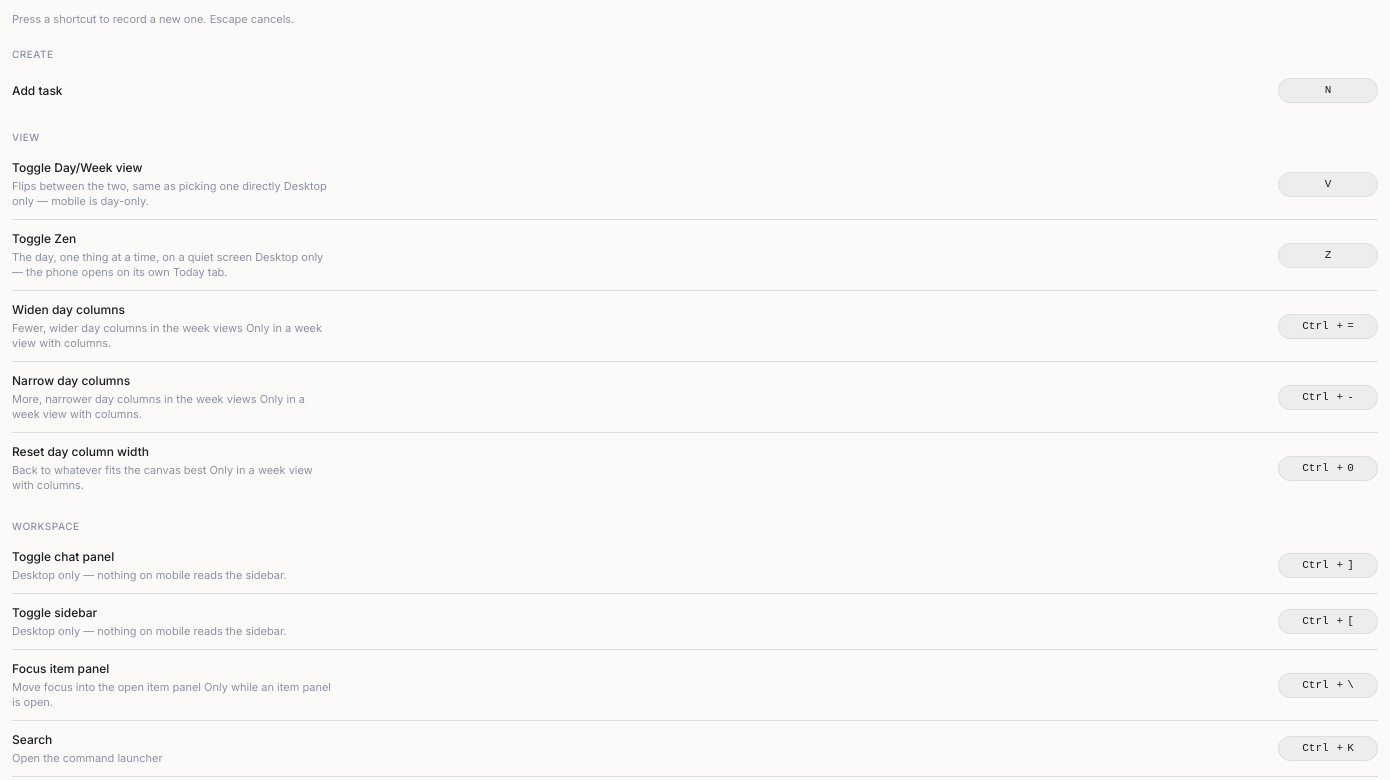
Scenario: recording a chord › cancels on Escape rather than binding Escape
This screenshot has width=1390, height=780.
Click the button "N" at [1328, 90], box [1278,78,1378,102]
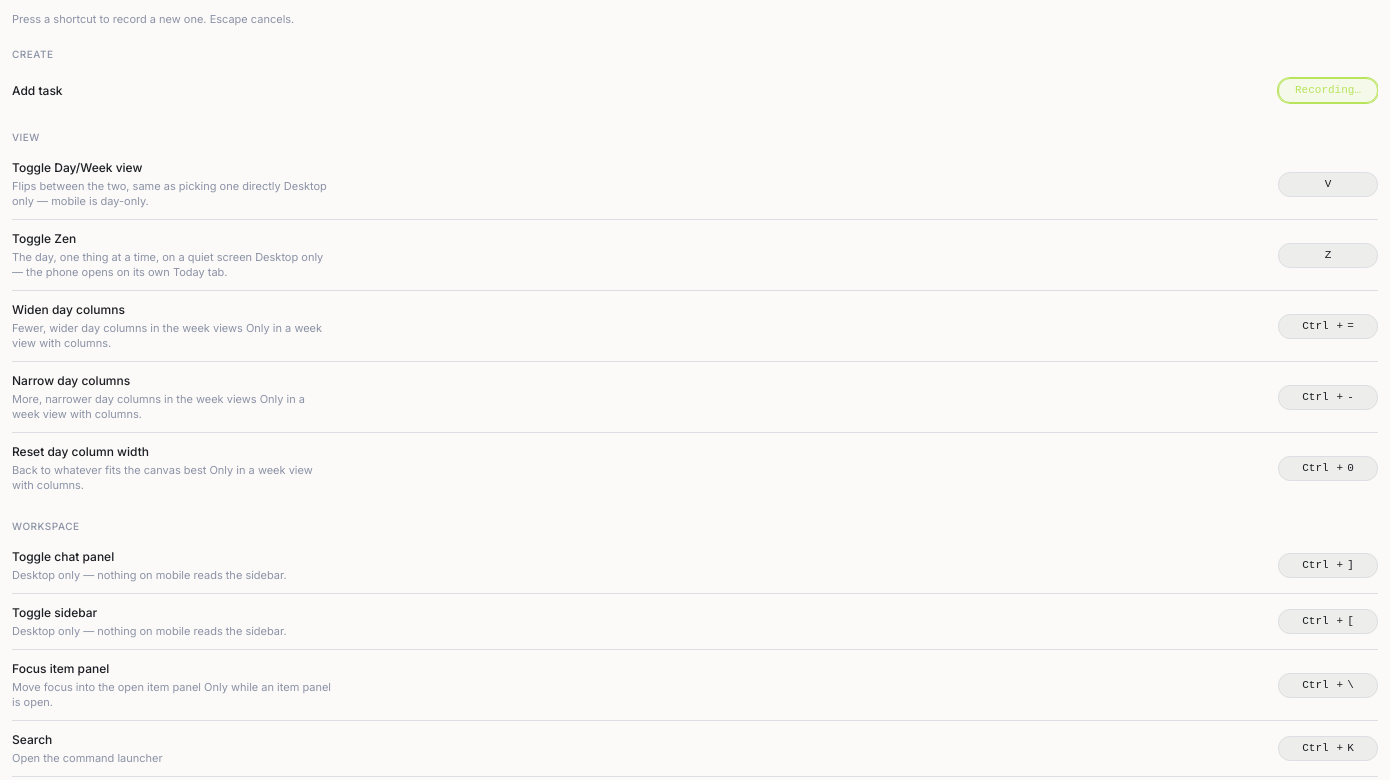
Press Escape in the button "Recording…", box [1278,78,1378,102]
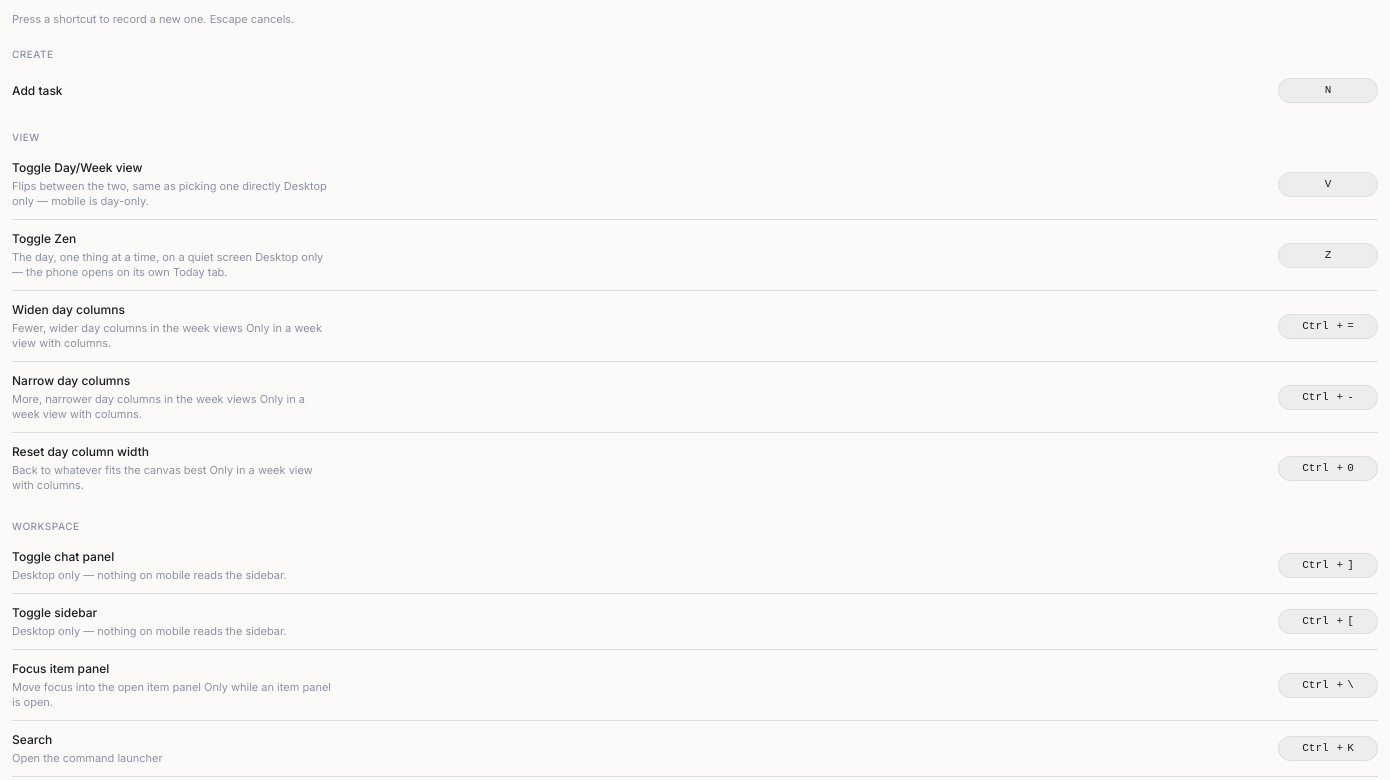
Check: the button "N" is shown, box [1278,78,1378,102]
